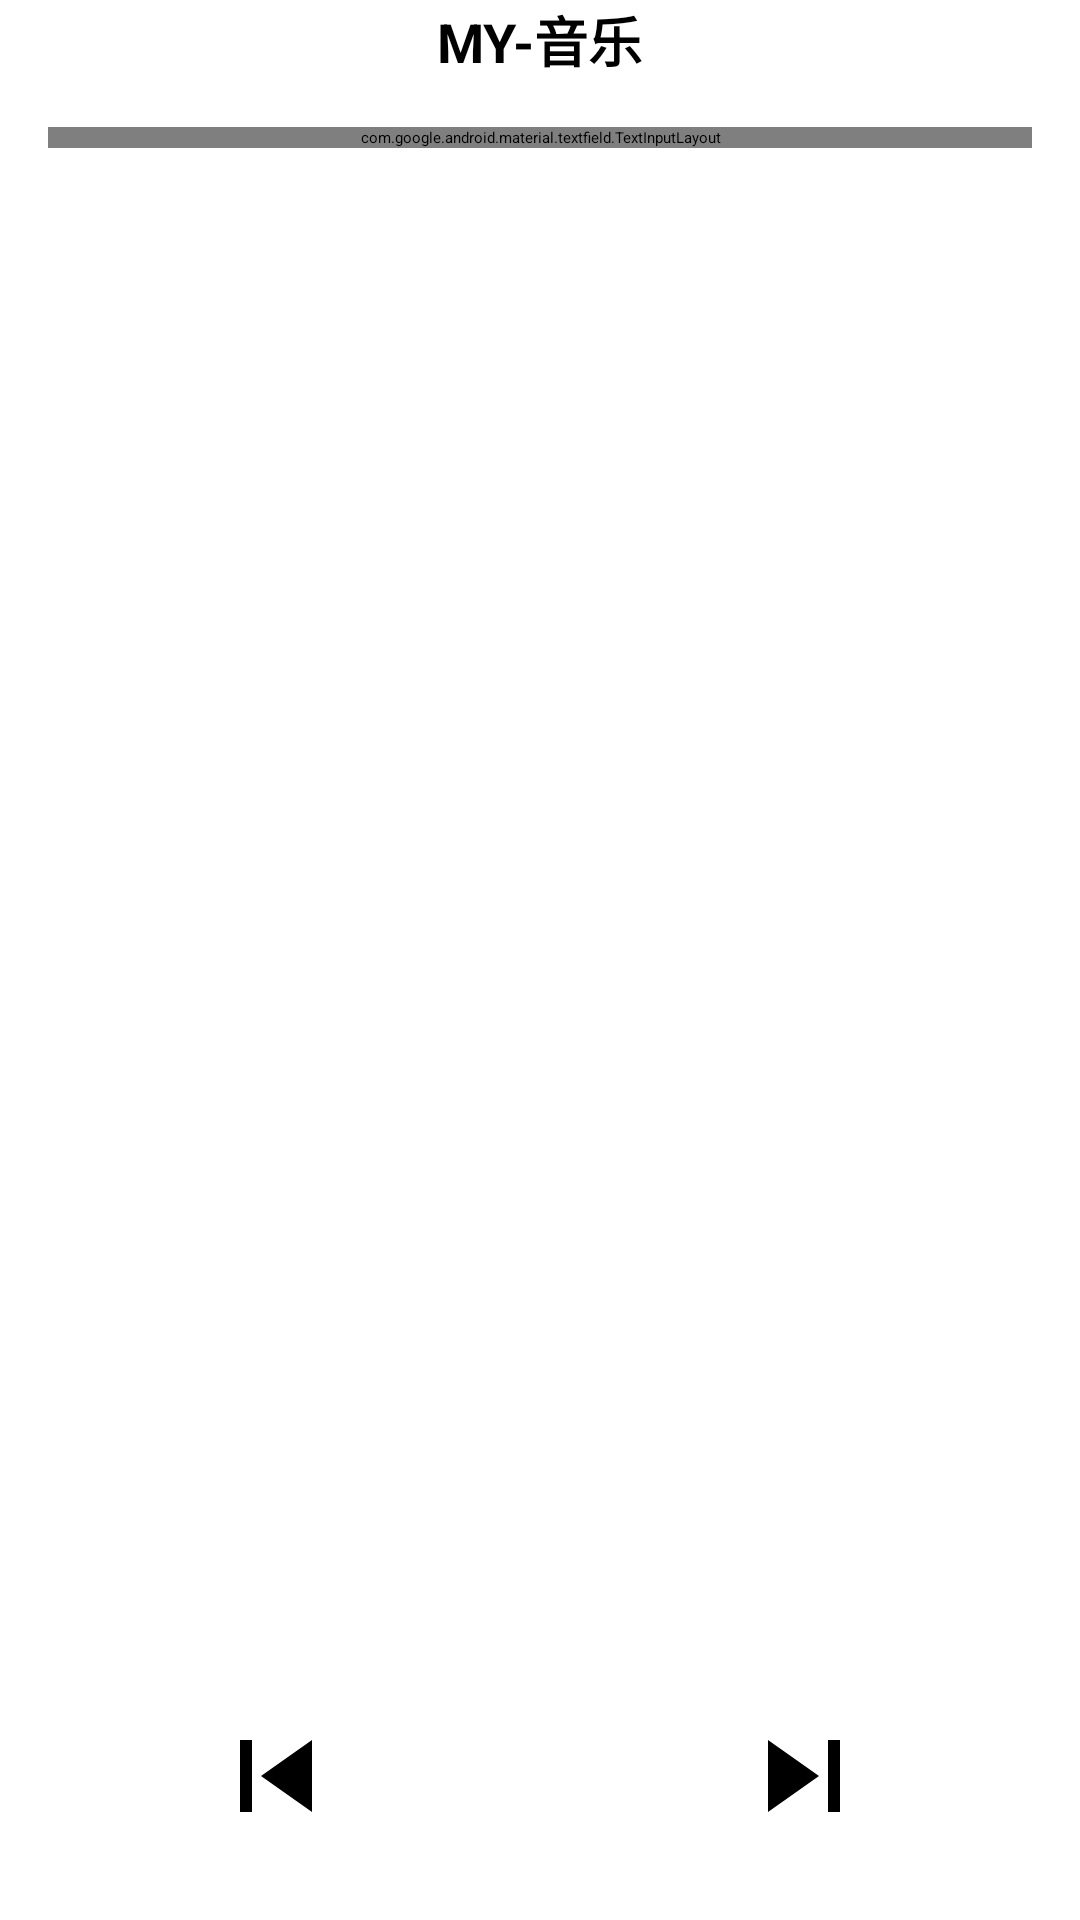

Screen size 1080×1920. Icon name, then its box in pixels as (x1, y1, x2, y2):
next: (768, 1740, 840, 1812)
previous: (240, 1740, 312, 1812)
